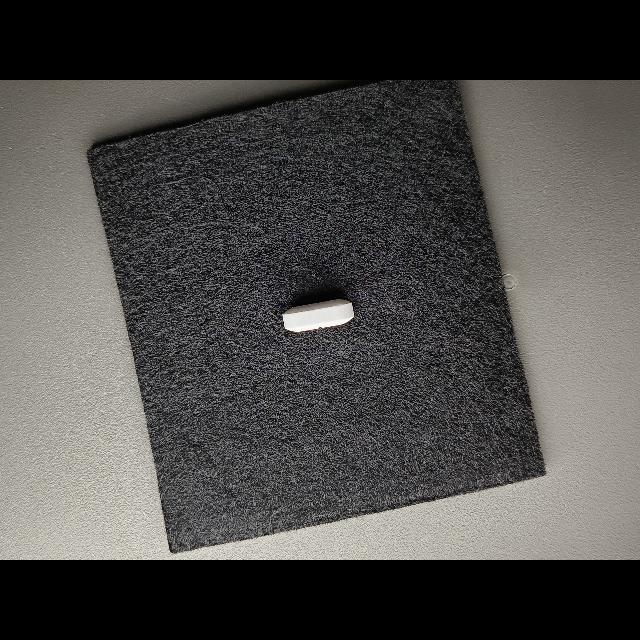Intact Pill: (282, 299, 355, 332)
